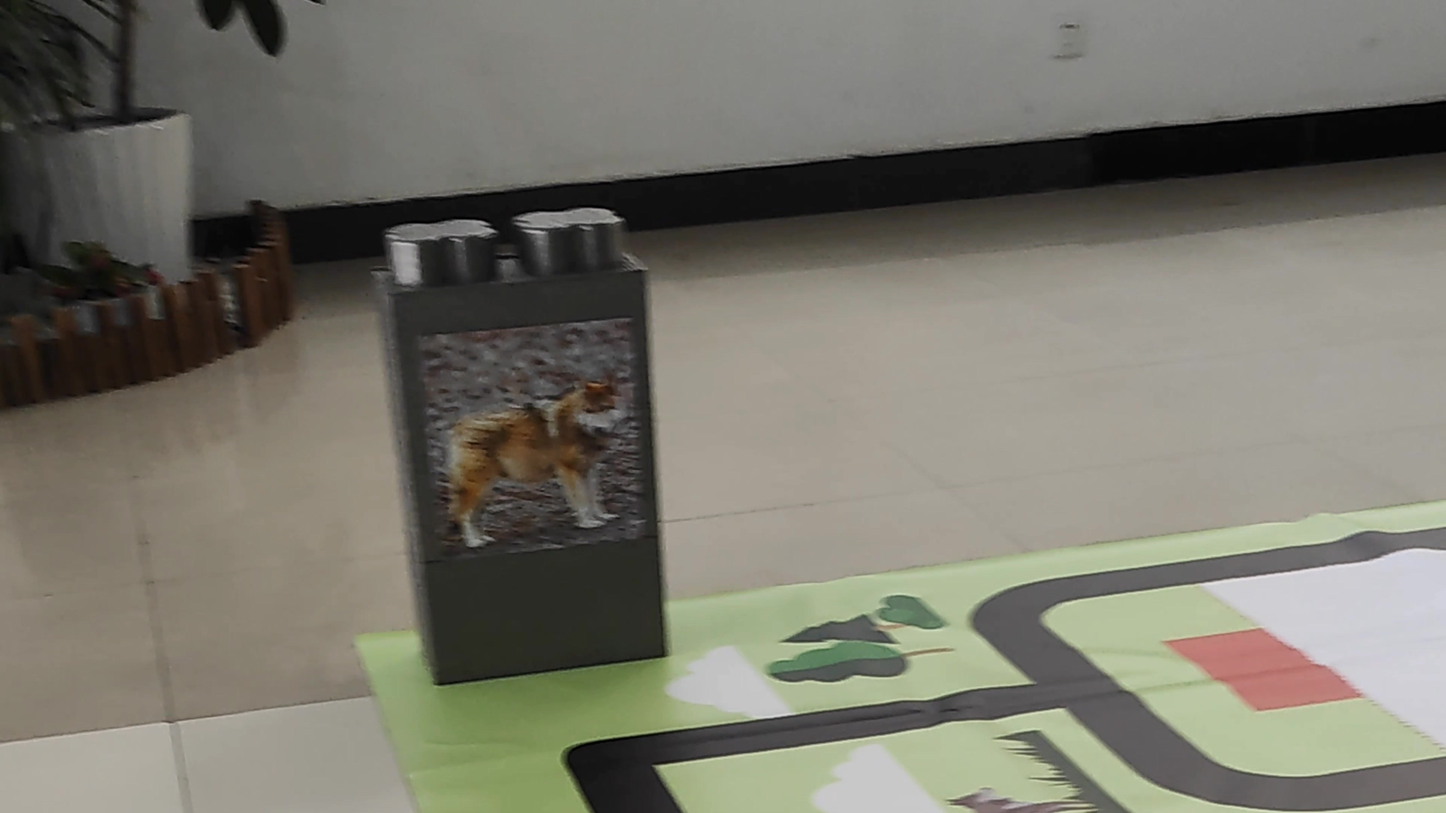wolf: (426, 367, 641, 562)
